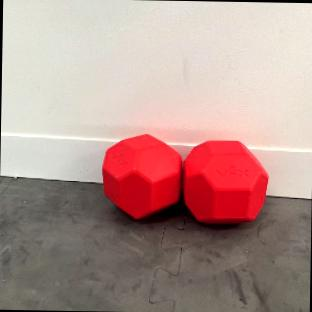V5_RED: (183, 139, 267, 223), (102, 134, 181, 218)
pieces: (98, 130, 268, 227)
